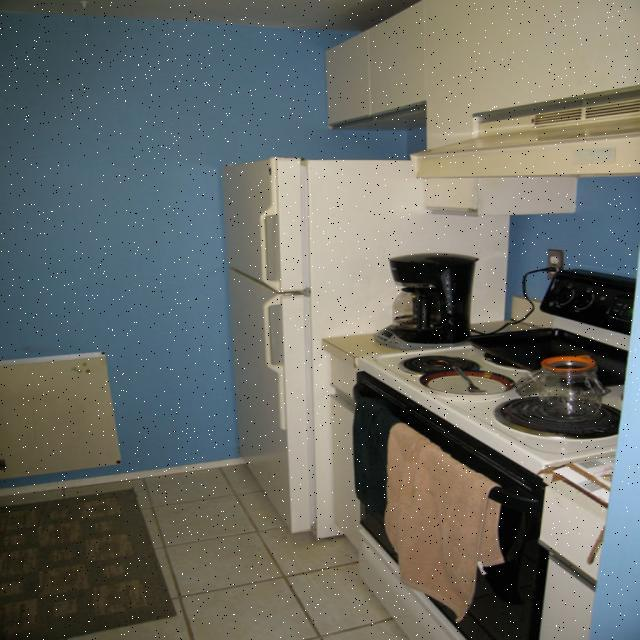Coffee-Machine: (380, 240, 490, 358)
